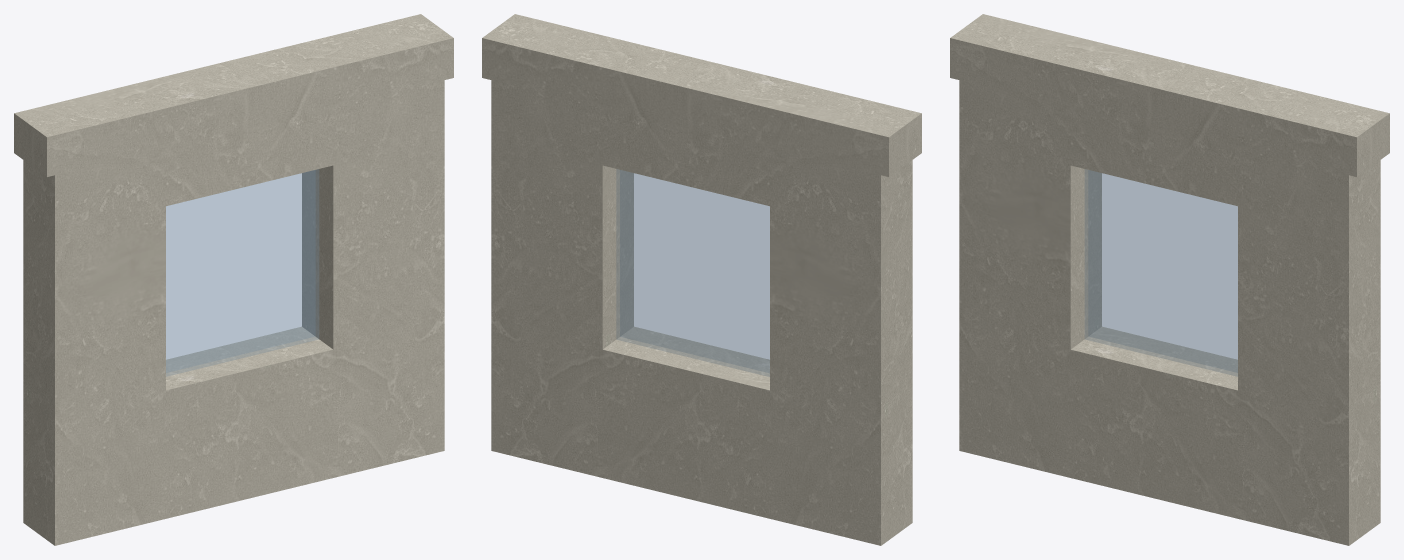
Rendered from AlabasterSquareWIndowedWall.002.glb.
The picture shows the model from 3 angles, left to right: view 1: azimuth 30°, elevation 25°; view 2: azimuth 150°, elevation 25°; view 3: azimuth 330°, elevation 25°; orthographic projection.
Visible parts, largest first — view 1: AlabasterSquareWIndowedWall.002; view 2: AlabasterSquareWIndowedWall.002; view 3: AlabasterSquareWIndowedWall.002.
Boxes of the visible parts, <box> form: AlabasterSquareWIndowedWall.002: <box>14,14,453,545</box>; AlabasterSquareWIndowedWall.002: <box>482,14,921,545</box>; AlabasterSquareWIndowedWall.002: <box>950,14,1389,545</box>.
Size of what is drawn, in the model's own units: 3.03 by 2.93 by 0.4241.
Materials: 2 (2 with a texture image).
